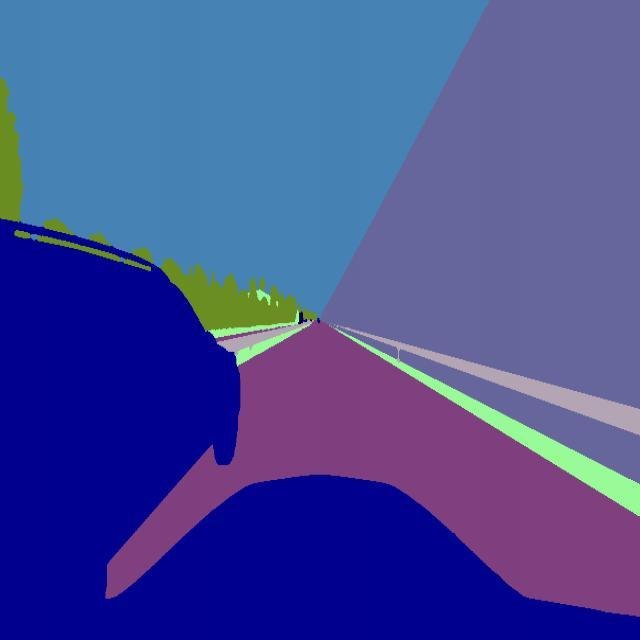unsafe: (0, 217, 241, 622)
